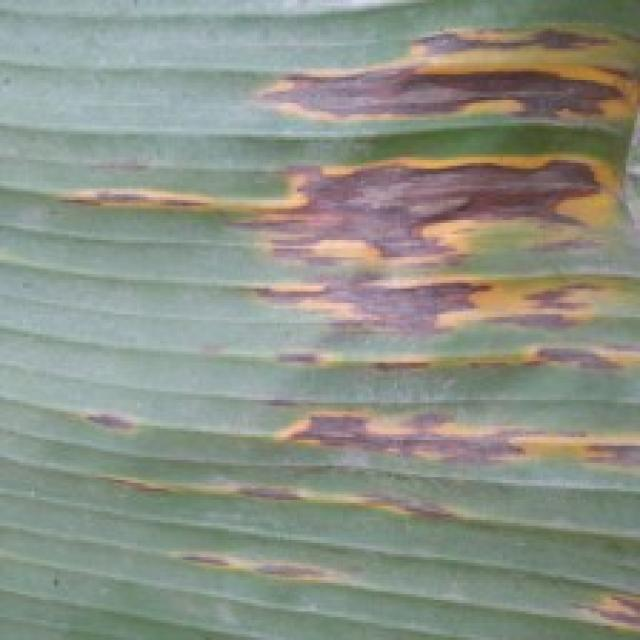Early_leaf_spot: (40, 144, 640, 341), (71, 374, 640, 540), (151, 514, 640, 637), (194, 14, 640, 137), (214, 300, 640, 386)
